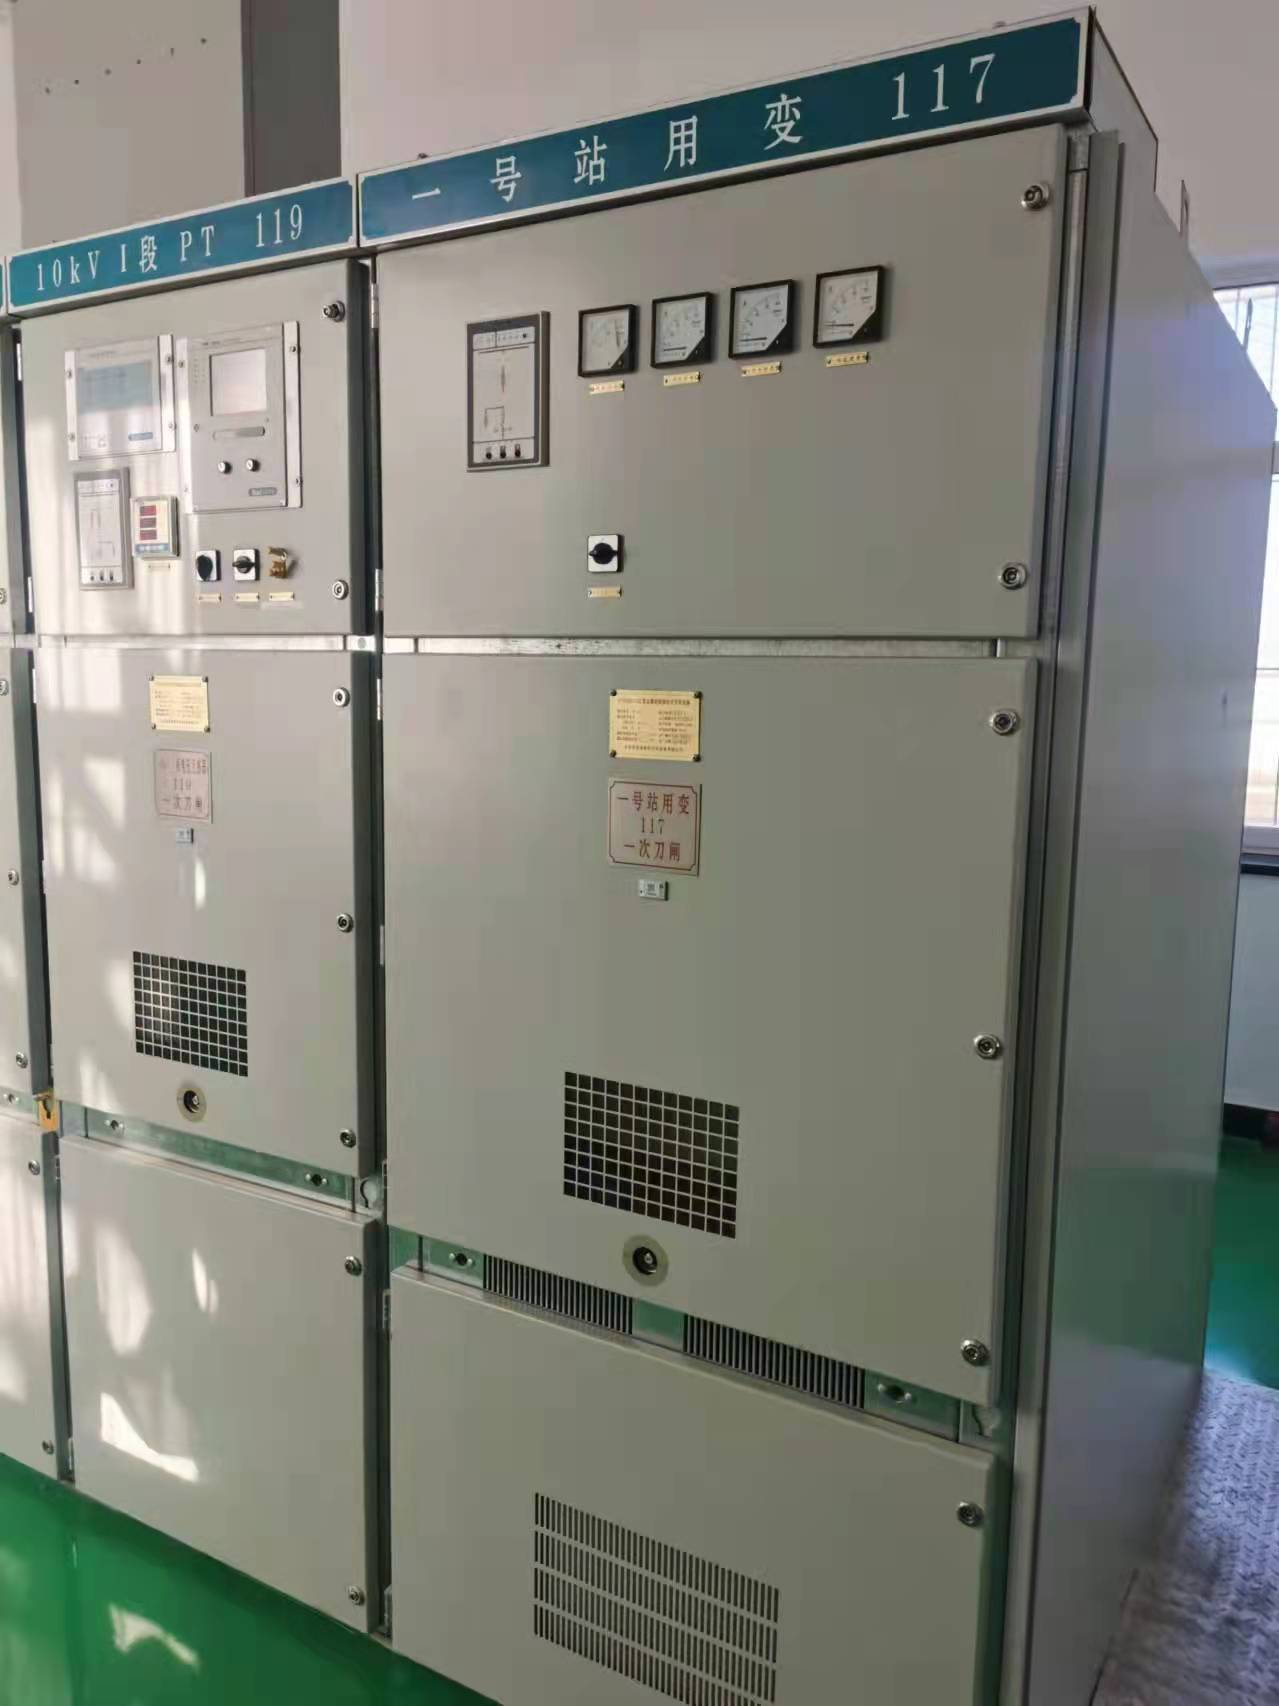pointer: (815, 269, 879, 344), (730, 283, 790, 355), (578, 308, 631, 373), (653, 294, 704, 363)
